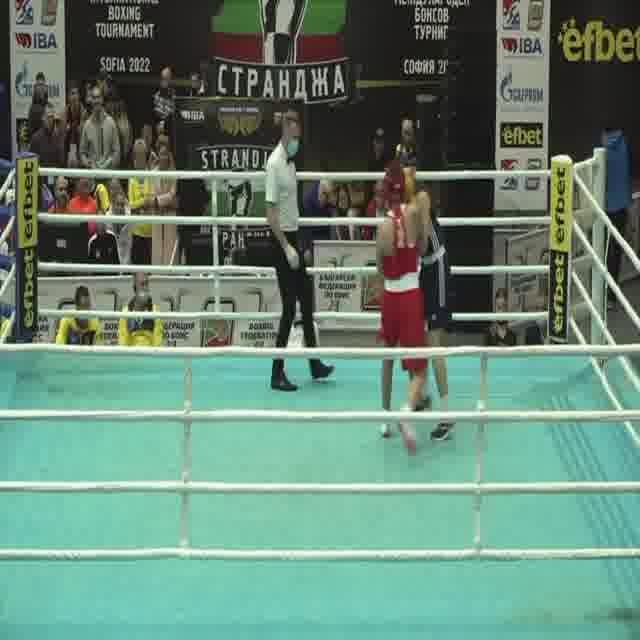blue-player: (390, 143, 455, 443)
red-player: (373, 156, 430, 458)
referee: (258, 105, 339, 397)
